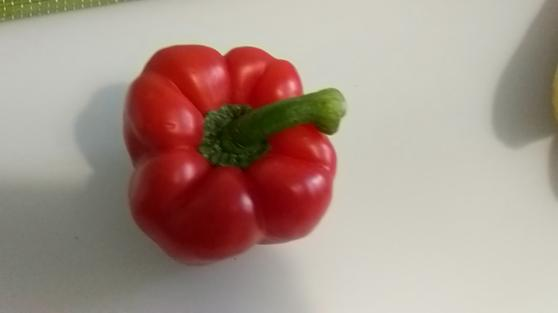pepper: (123, 45, 346, 264)
